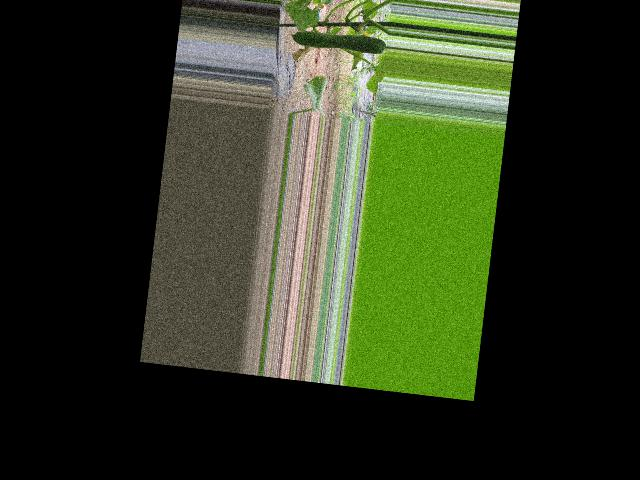cucumber: (288, 27, 386, 55)
